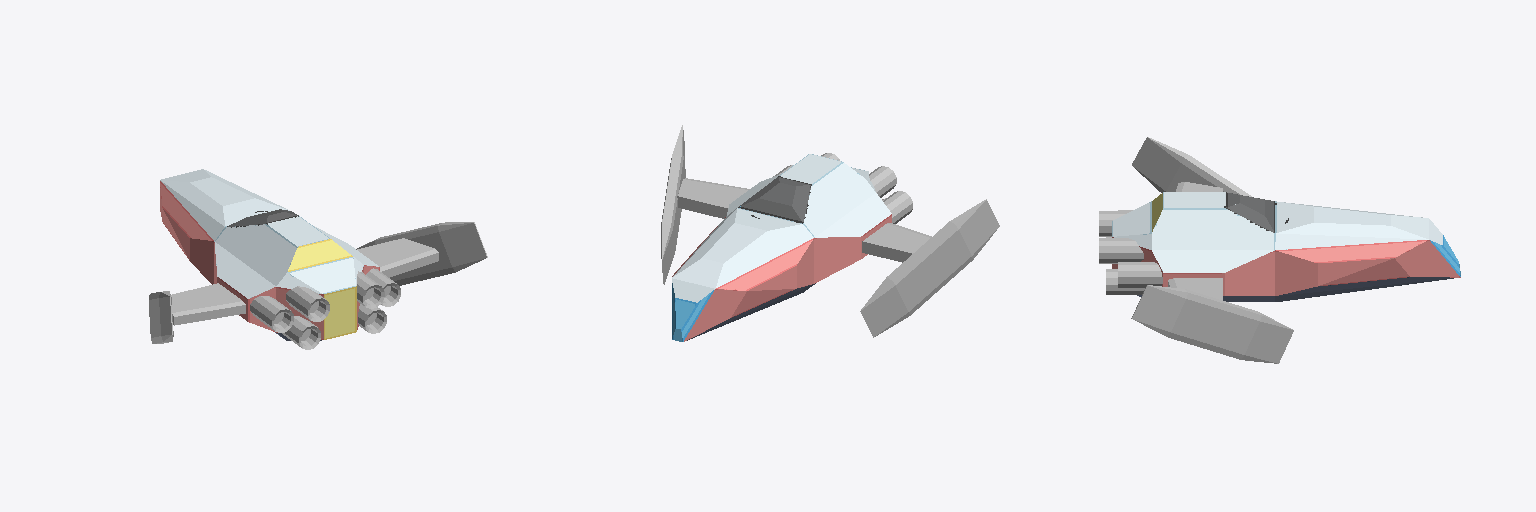
3 views of the same model, side by side, from view 1: azimuth 30°, elevation 25°; view 2: azimuth 150°, elevation 25°; view 3: azimuth 270°, elevation 25° (orthographic).
Parts seen in each view (by area): view 1: beveled_cuboid, cylinder, cube; view 2: beveled_cuboid, cube, cylinder; view 3: beveled_cuboid, cylinder, cube.
Boxes of the visible parts, <box> form: beveled_cuboid: <box>149,169,487,343</box>; cylinder: <box>250,268,400,349</box>; cube: <box>171,238,438,325</box>; beveled_cuboid: <box>661,125,999,341</box>; cube: <box>677,178,931,262</box>; cylinder: <box>773,153,912,223</box>; beveled_cuboid: <box>1112,137,1460,363</box>; cylinder: <box>1099,210,1162,294</box>; cube: <box>1168,182,1222,300</box>.
Size of the model in its own units: 3.59 by 1.24 by 3.56.
Materials: 2 (1 with a texture image).